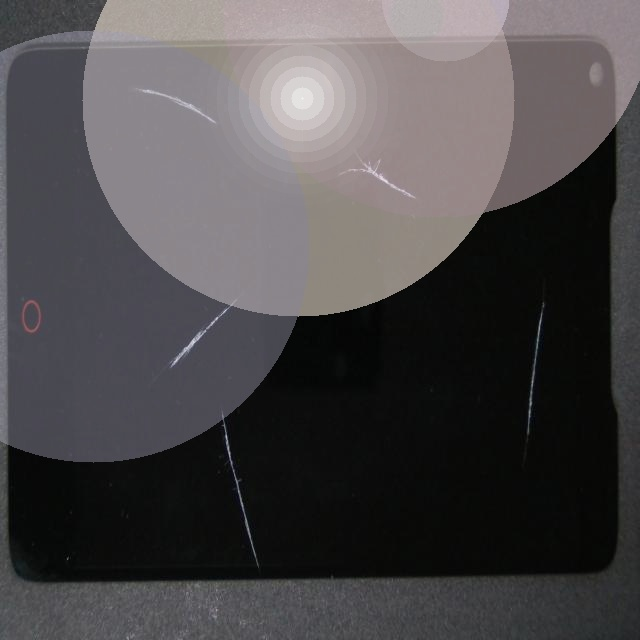scratch: (124, 159, 363, 441), (158, 376, 384, 640)
